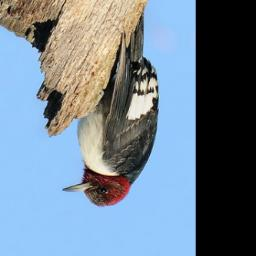Woodpecker: (53, 11, 165, 209)
